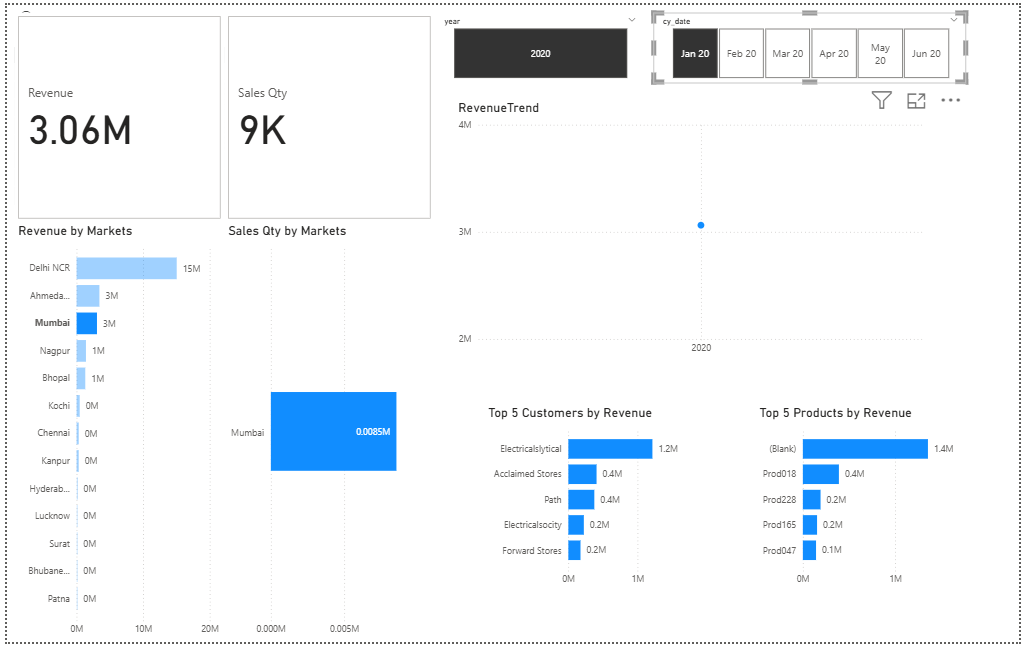

This screenshot's page, from the dashboard's own definition file:
{"tool":"powerbi","page":{"name":"Page 1","canvas":[1350,850],"ordinal":0},"visuals":[{"type":"tableEx","box":[10,0,280,280],"z":0},{"type":"cardVisual","fields":{"Data":["BaseMeasures.Sales Qty"]},"box":[290.2,10.1,280.1,280.1],"z":1000},{"type":"cardVisual","fields":{"Data":["BaseMeasures.Revenue"]},"box":[10,10,280.1,280.1],"z":2000},{"type":"barChart","title":"Revenue by Markets","fields":{"Y":["BaseMeasures.Revenue"],"Category":["markets.markets_name"]},"box":[10.1,290.2,280.1,560.1],"z":3000},{"type":"barChart","title":"Sales Qty by Markets","fields":{"Y":["BaseMeasures.Sales Qty"],"Category":["markets.markets_name"]},"box":[290.2,290.2,280.1,560.1],"z":4000},{"type":"slicer","fields":{"Values":["date.year"]},"box":[570.2,10.1,280.8,94.1],"z":5000},{"type":"slicer","fields":{"Values":["date.cy_date"]},"box":[861.1,10.1,418.3,94.1],"z":6000},{"type":"barChart","title":"Top 5 Customers by Revenue","fields":{"Y":["BaseMeasures.Revenue"],"Category":["customers.custmer_name"]},"box":[636.8,532.6,280.8,250.4],"z":7000},{"type":"barChart","title":"Top 5 Products by Revenue","fields":{"Y":["BaseMeasures.Revenue"],"Category":["products.product_code"]},"box":[998.6,532.6,280.8,250.4],"z":8000},{"type":"lineChart","title":"RevenueTrend","fields":{"Y":["BaseMeasures.Revenue"],"Category":["date.cy_date"]},"box":[596.3,125.9,629.6,348.8],"z":9000}]}

Visuals, with their boxes in screenshot pixels (x1, y1, x2, y2), scaled from the page's 1350x850 canvas onto the 1027x651 screenshot:
tableEx: bbox(8, 0, 221, 214)
cardVisual - BaseMeasures.Sales Qty: bbox(221, 8, 434, 222)
cardVisual - BaseMeasures.Revenue: bbox(8, 8, 221, 222)
"Revenue by Markets" barChart: bbox(8, 222, 221, 650)
"Sales Qty by Markets" barChart: bbox(221, 222, 434, 650)
slicer - date.year: bbox(434, 8, 647, 80)
slicer - date.cy_date: bbox(655, 8, 973, 80)
"Top 5 Customers by Revenue" barChart: bbox(484, 408, 698, 600)
"Top 5 Products by Revenue" barChart: bbox(760, 408, 973, 600)
"RevenueTrend" lineChart: bbox(454, 96, 933, 364)
